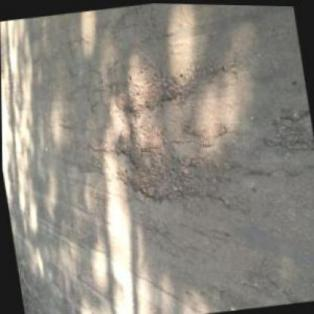Hueco: (108, 109, 193, 208), (110, 66, 191, 116)
